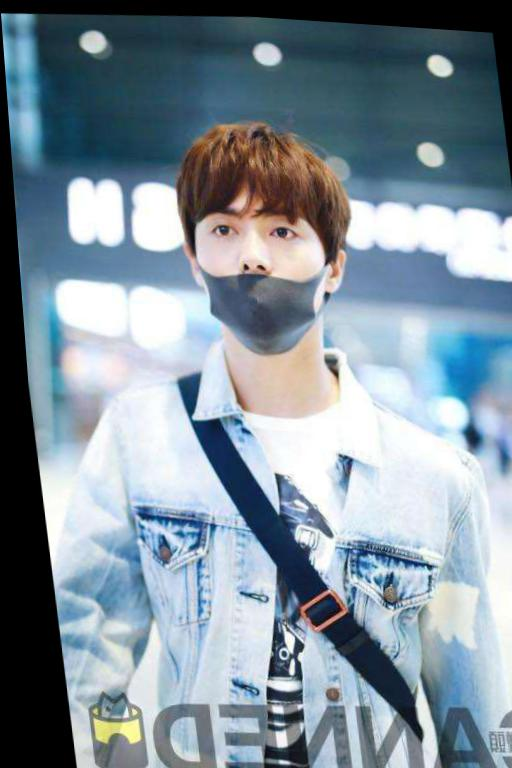WRONG: (185, 176, 327, 357)
